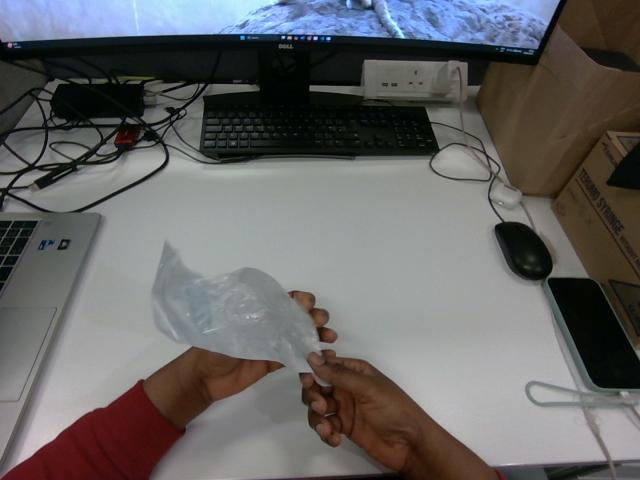gallipot: (152, 243, 320, 371)
